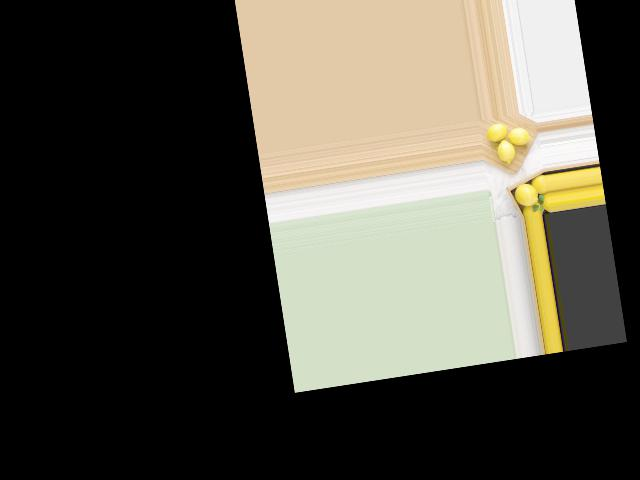lemon: (481, 120, 510, 148)
